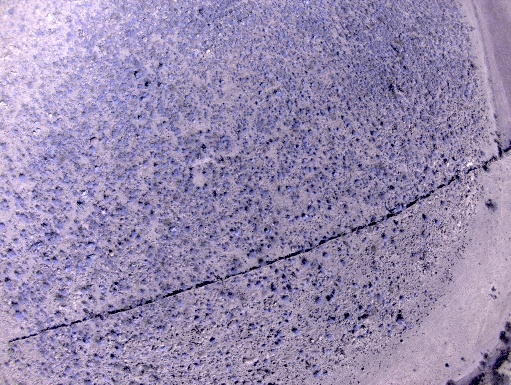agave: (326, 290, 338, 304), (92, 353, 106, 364), (270, 281, 281, 295), (247, 248, 258, 261), (13, 193, 24, 206), (152, 171, 165, 182), (81, 333, 92, 346), (113, 343, 127, 353), (311, 369, 323, 380), (5, 248, 17, 259), (396, 316, 407, 327), (395, 203, 407, 213), (291, 329, 304, 338), (275, 339, 286, 349), (248, 322, 260, 331), (84, 241, 97, 249), (232, 227, 242, 237), (255, 281, 265, 291), (175, 299, 185, 309), (207, 338, 218, 347), (262, 227, 273, 236), (184, 223, 193, 234), (325, 332, 334, 343), (380, 233, 390, 242), (301, 259, 311, 268), (281, 294, 291, 303), (314, 295, 323, 305), (157, 324, 166, 334), (388, 152, 398, 161), (14, 312, 24, 321), (53, 186, 63, 195), (257, 208, 266, 218), (262, 357, 272, 366), (157, 82, 168, 90), (220, 133, 231, 141), (259, 82, 271, 89), (284, 258, 296, 265), (286, 186, 298, 193), (391, 226, 400, 235), (322, 251, 331, 260), (88, 145, 97, 154), (228, 293, 237, 302), (51, 257, 60, 266), (85, 255, 94, 264), (180, 283, 189, 292), (224, 363, 233, 372), (231, 266, 240, 275), (311, 362, 320, 371), (423, 214, 431, 224), (370, 130, 380, 138), (93, 246, 101, 256), (273, 330, 283, 338), (352, 178, 363, 185), (306, 204, 314, 213), (328, 107, 337, 115), (144, 202, 153, 210), (110, 354, 118, 363), (273, 89, 282, 97), (18, 174, 26, 183), (35, 271, 44, 279), (42, 282, 51, 290), (173, 170, 181, 179), (203, 285, 211, 294), (162, 120, 170, 129), (260, 342, 269, 350), (263, 275, 271, 284), (278, 108, 286, 117), (133, 71, 143, 78), (128, 197, 138, 204), (222, 182, 232, 189), (225, 141, 232, 151), (352, 323, 360, 331), (195, 186, 203, 194), (12, 301, 20, 309), (335, 277, 343, 285), (339, 260, 347, 268), (276, 173, 284, 181), (281, 171, 289, 179), (130, 231, 137, 240), (148, 245, 155, 254), (433, 219, 441, 226), (440, 201, 448, 208), (194, 315, 201, 323), (247, 282, 254, 290), (295, 215, 302, 223), (344, 314, 352, 321), (140, 95, 148, 102), (143, 160, 151, 167), (103, 195, 110, 203), (248, 189, 256, 196), (64, 265, 72, 272), (304, 166, 312, 173), (307, 148, 314, 156), (345, 121, 353, 128), (282, 274, 289, 282), (201, 170, 208, 178), (269, 138, 277, 145), (274, 137, 281, 145), (302, 213, 309, 220), (356, 137, 363, 144), (257, 89, 264, 96), (381, 121, 388, 128), (219, 79, 226, 86), (175, 147, 182, 154), (189, 347, 196, 354), (245, 76, 252, 83), (238, 77, 245, 84), (230, 236, 236, 244), (153, 163, 161, 169), (274, 269, 282, 275), (390, 186, 398, 192), (137, 236, 144, 242), (328, 205, 334, 212), (277, 186, 283, 193), (362, 284, 369, 290), (286, 214, 292, 221), (199, 131, 206, 137), (242, 127, 248, 134), (317, 199, 324, 205), (282, 140, 289, 146), (277, 211, 285, 216), (199, 223, 204, 231), (295, 144, 301, 150), (353, 283, 359, 289), (222, 190, 228, 196), (255, 101, 261, 107), (300, 108, 306, 114), (299, 350, 305, 356), (308, 129, 313, 136), (333, 231, 338, 237), (315, 238, 321, 243), (332, 171, 337, 177), (439, 164, 445, 169), (418, 201, 424, 206), (336, 128, 342, 133), (422, 176, 427, 181), (206, 299, 211, 304), (306, 71, 311, 76)
